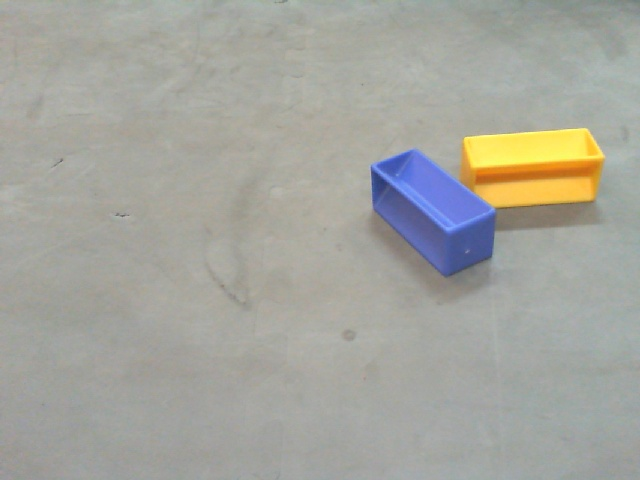BlueSample: (364, 148, 497, 289)
YellowSample: (460, 126, 608, 214)
